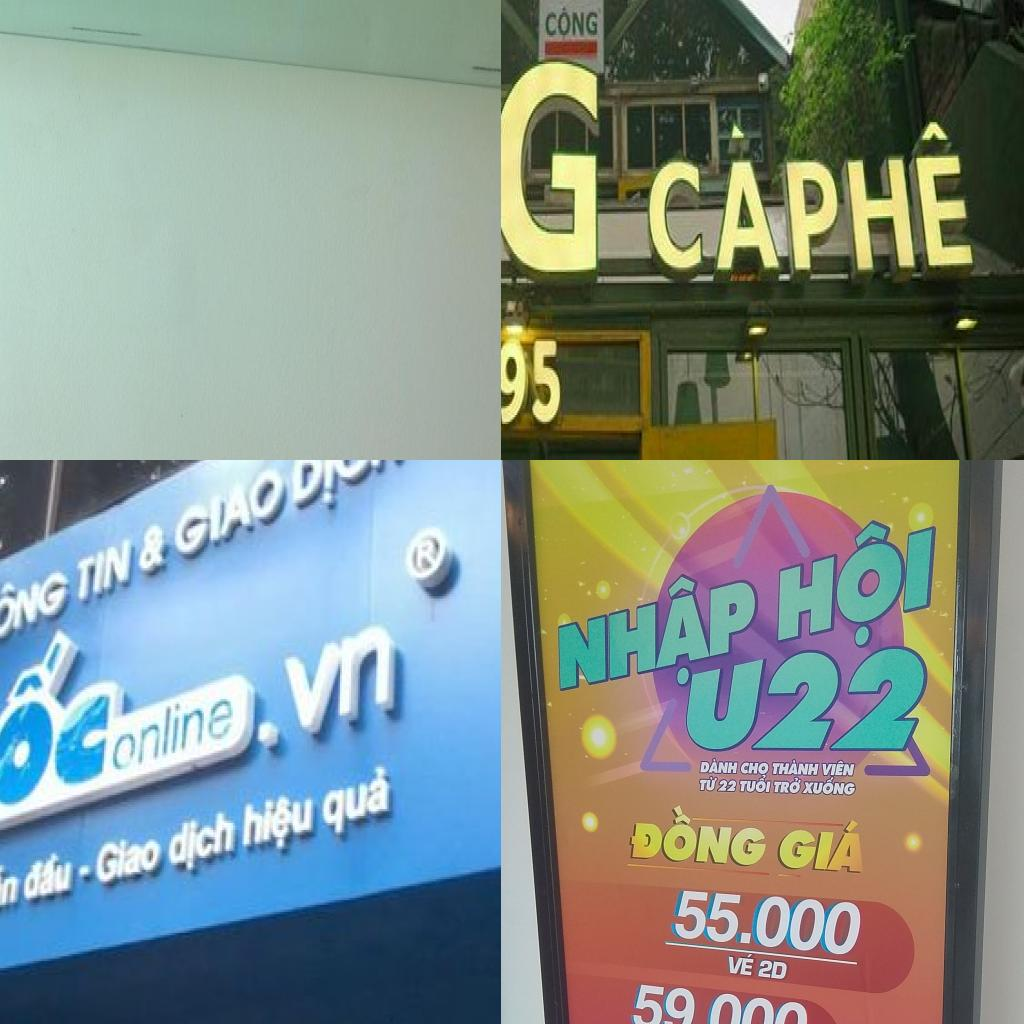text: (0, 505, 394, 900), (780, 111, 985, 285), (501, 1, 605, 336), (554, 554, 760, 710), (682, 636, 939, 755), (776, 500, 942, 669), (642, 118, 788, 294), (670, 887, 868, 957), (174, 463, 286, 566), (627, 800, 775, 869), (629, 981, 812, 1024), (0, 556, 71, 659), (291, 460, 403, 521), (320, 760, 395, 842), (240, 786, 318, 860), (776, 814, 865, 874), (168, 806, 240, 876), (75, 535, 135, 608), (95, 828, 166, 888), (22, 846, 75, 905), (542, 4, 600, 46), (136, 519, 168, 575), (801, 776, 857, 798), (0, 860, 22, 914), (770, 758, 822, 777), (698, 756, 740, 776), (727, 950, 756, 978), (415, 538, 438, 573), (737, 774, 774, 795), (756, 959, 789, 981), (821, 759, 857, 777), (771, 776, 803, 796), (739, 760, 770, 775), (697, 775, 719, 793), (716, 778, 738, 793)
